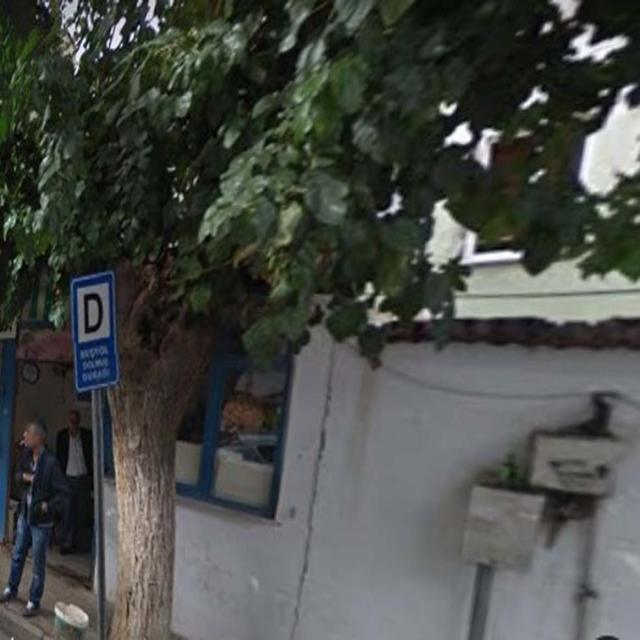durak: (70, 270, 120, 391)
